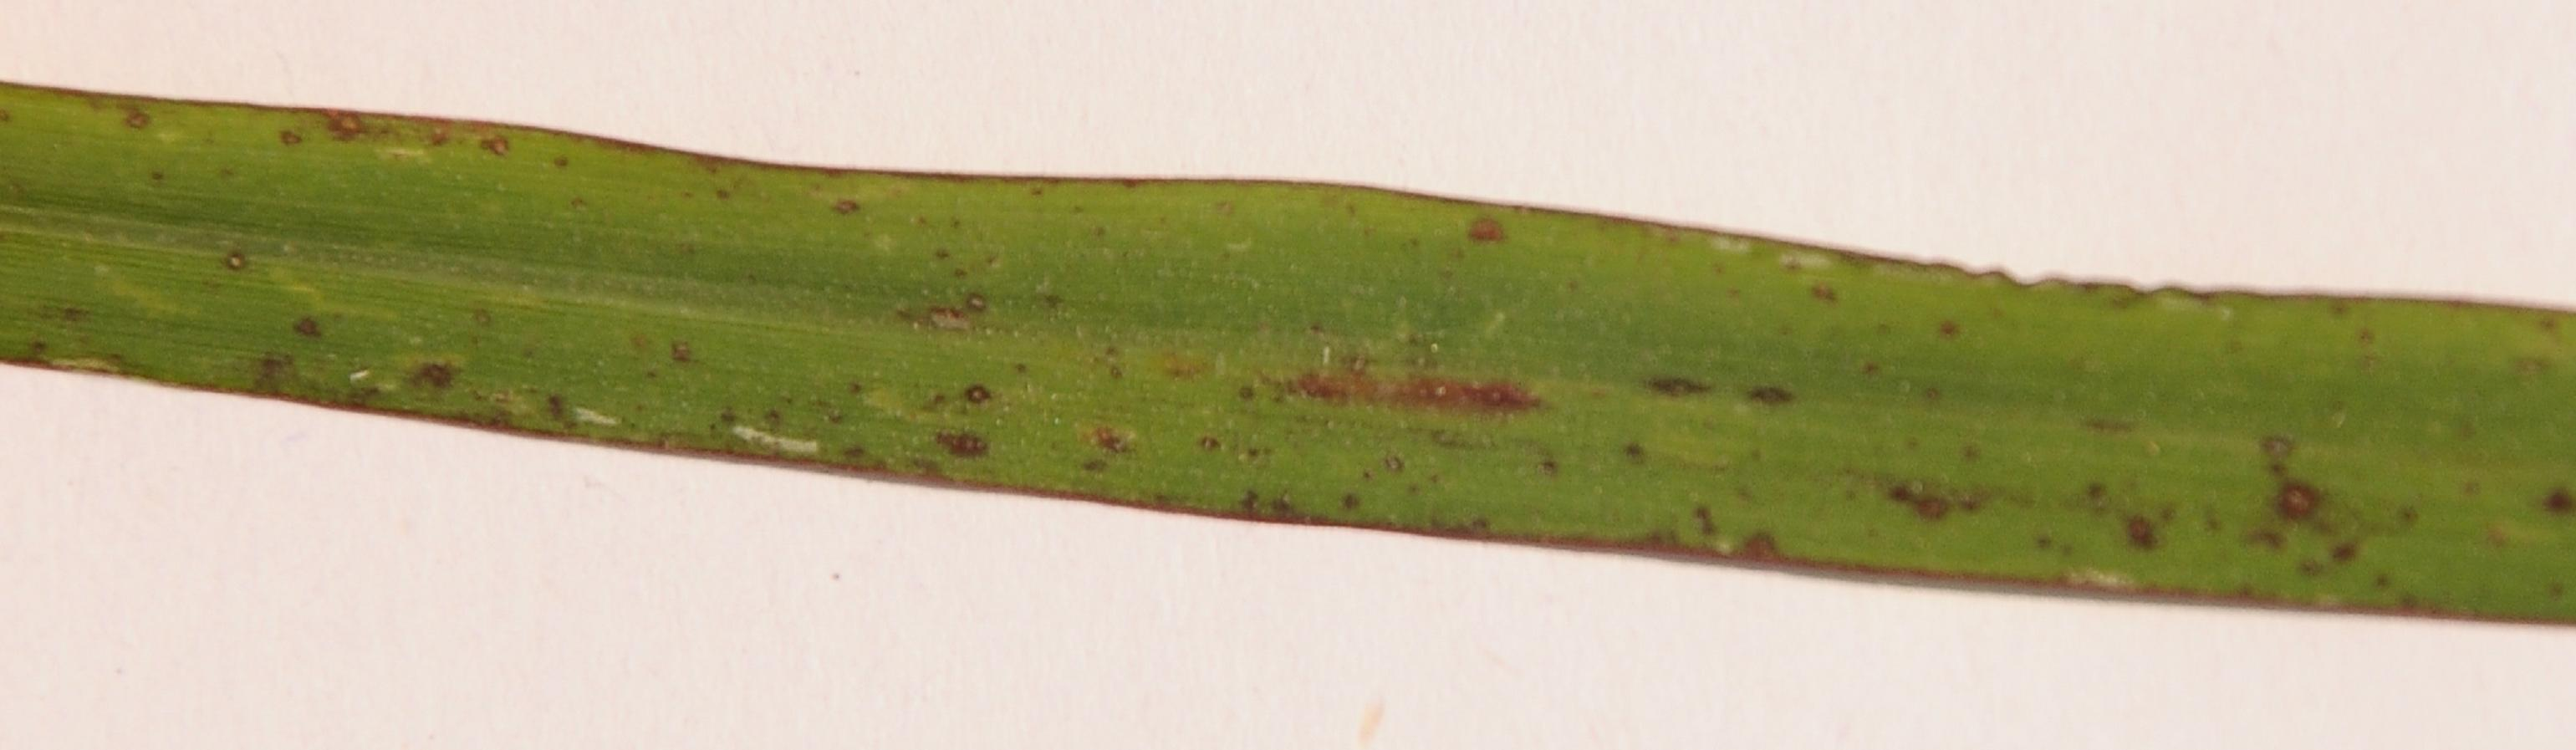leaf_smut: (151, 110, 2394, 601)
